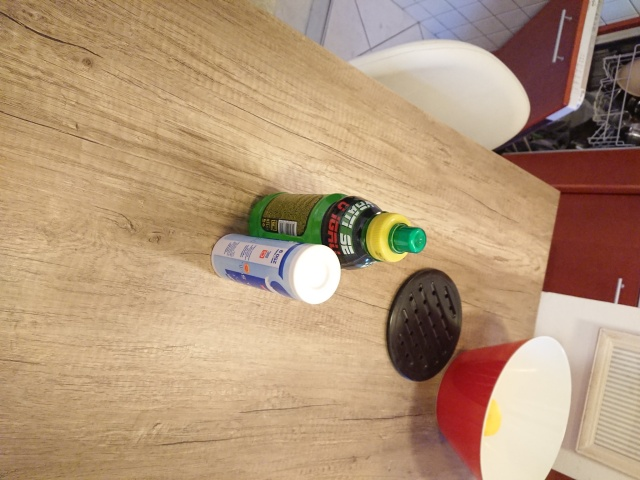Solana Pag Fine Sea Salt 250g: (208, 231, 343, 306)
Vindi Iso Sport Lemon-Grapefruit 500mL: (245, 190, 429, 272)
